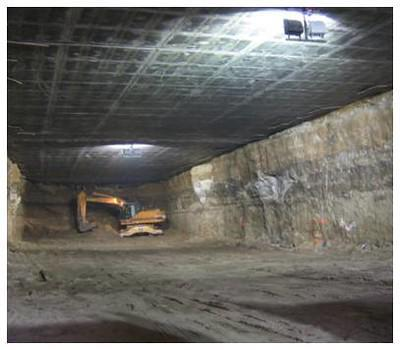EXCAVATORS: (76, 189, 168, 237)
